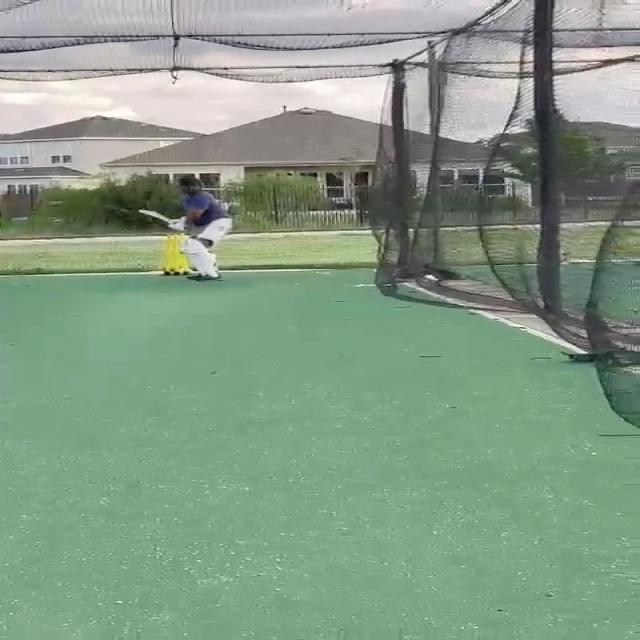batsman: (137, 176, 236, 284)
